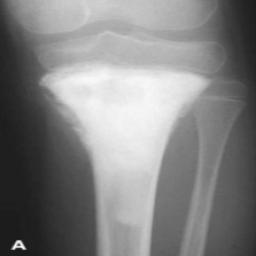cancer: (39, 62, 209, 256)
